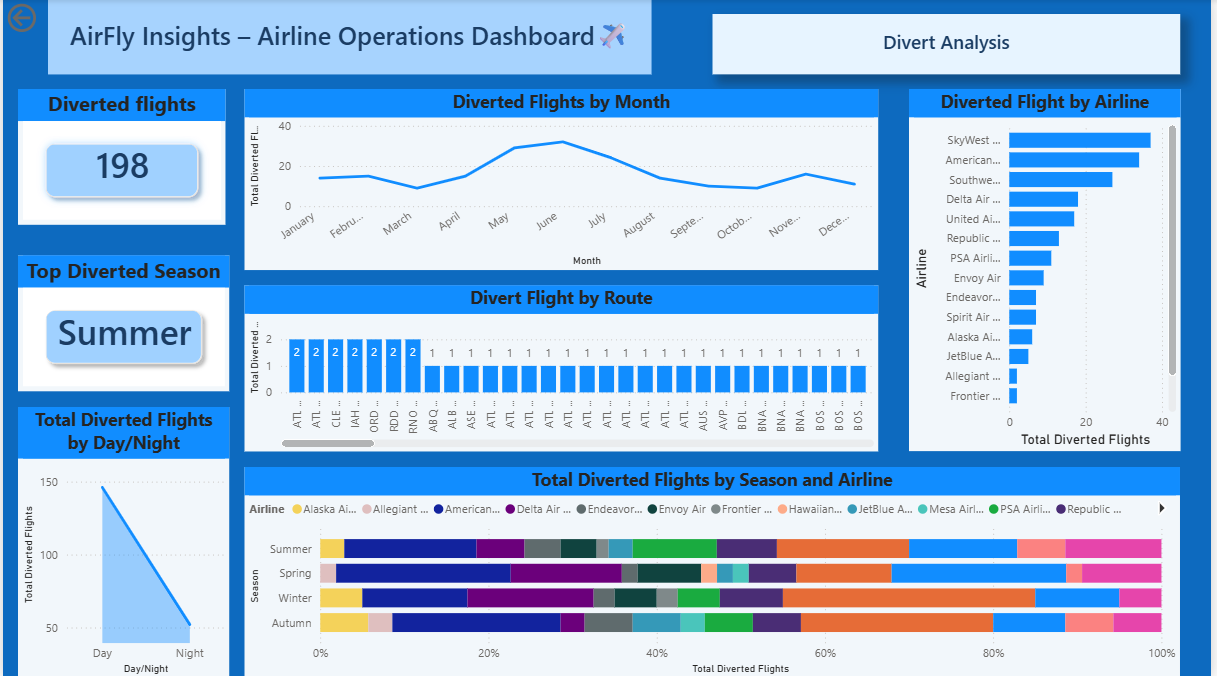

The dashboard page shown, as its layout file describes it:
{"tool":"powerbi","page":{"name":"Divert Analysis","canvas":[1280,720],"ordinal":3},"visuals":[{"type":"textbox","box":[48,0,640,80],"z":0},{"type":"cardVisual","title":"Diverted flights","fields":{"Data":["data.Total Diverted Flights"]},"box":[16,96,220,144],"z":1000},{"type":"cardVisual","title":"Top Diverted Season","fields":{"Data":["data.Top Divert Season"]},"box":[16,272,224,144],"z":2000},{"type":"actionButton","box":[752,16,496,64],"z":3000},{"type":"actionButton","box":[0,0,100,40],"z":4000},{"type":"lineChart","title":"Diverted Flights by Month","fields":{"Y":["data.Total Diverted Flights"],"Category":["data.Date.Variation.Date Hierarchy.Month"]},"box":[256,96,672,192],"z":5000},{"type":"barChart","title":"Diverted Flight  by Airline","fields":{"Category":["data.Airline"],"Y":["data.Total Diverted Flights"]},"box":[960,96,288,384],"z":6000},{"type":"clusteredColumnChart","title":"Divert Flight by Route","fields":{"Category":["data.ROUTE"],"Y":["data.Total Diverted Flights"]},"box":[256,304,672,176],"z":7000},{"type":"hundredPercentStackedBarChart","fields":{"Category":["data.Season"],"Y":["data.Total Diverted Flights"],"Series":["data.Airline"]},"box":[256,496,992,224],"z":8000},{"type":"areaChart","fields":{"Y":["data.Total Diverted Flights"],"Category":["data.Day/Night"]},"box":[16,432,224,288],"z":9000}]}

Visuals, with their boxes in screenshot pixels (x1, y1, x2, y2), scaled from the page's 1280x720 canvas onto the 1217x676 screenshot:
textbox: pyautogui.locateOnScreen(46, 0, 654, 75)
"Diverted flights" cardVisual: pyautogui.locateOnScreen(15, 90, 224, 225)
"Top Diverted Season" cardVisual: pyautogui.locateOnScreen(15, 255, 228, 391)
actionButton: pyautogui.locateOnScreen(715, 15, 1187, 75)
actionButton: pyautogui.locateOnScreen(0, 0, 95, 38)
"Diverted Flights by Month" lineChart: pyautogui.locateOnScreen(243, 90, 882, 270)
"Diverted Flight  by Airline" barChart: pyautogui.locateOnScreen(913, 90, 1187, 451)
"Divert Flight by Route" clusteredColumnChart: pyautogui.locateOnScreen(243, 285, 882, 451)
hundredPercentStackedBarChart - data.Season x data.Total Diverted Flights: pyautogui.locateOnScreen(243, 466, 1187, 675)
areaChart - data.Total Diverted Flights x data.Day/Night: pyautogui.locateOnScreen(15, 406, 228, 675)
